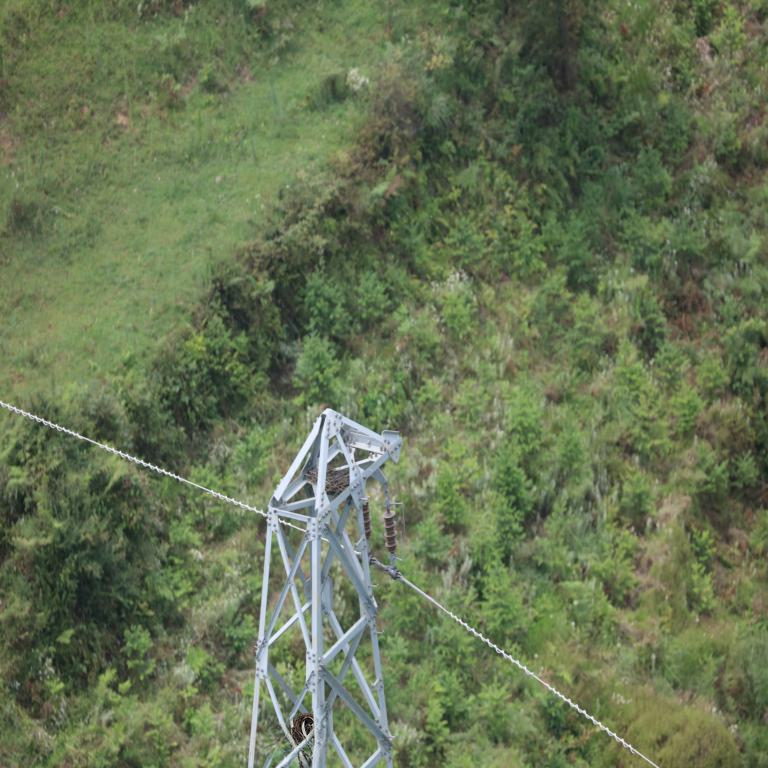nest: (311, 464, 346, 494), (294, 710, 322, 747)
